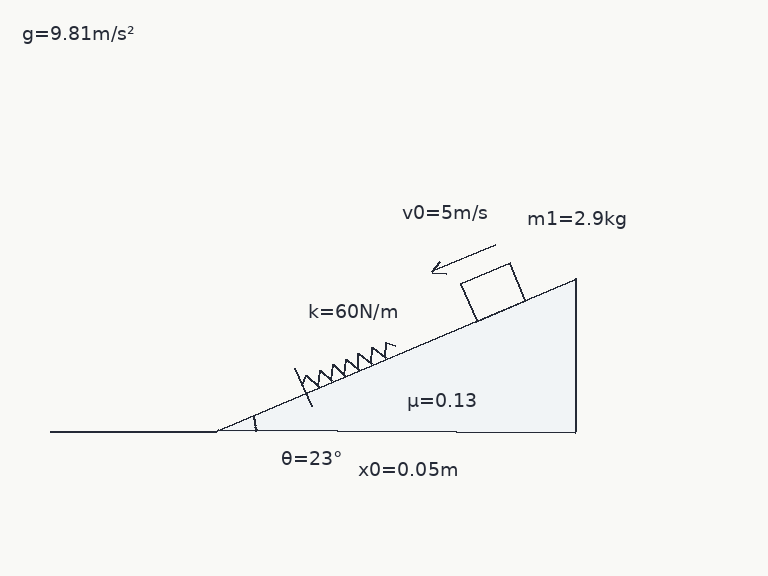block: (459, 262, 527, 323)
ramp: (214, 277, 576, 433)
spring: (300, 340, 397, 388)
